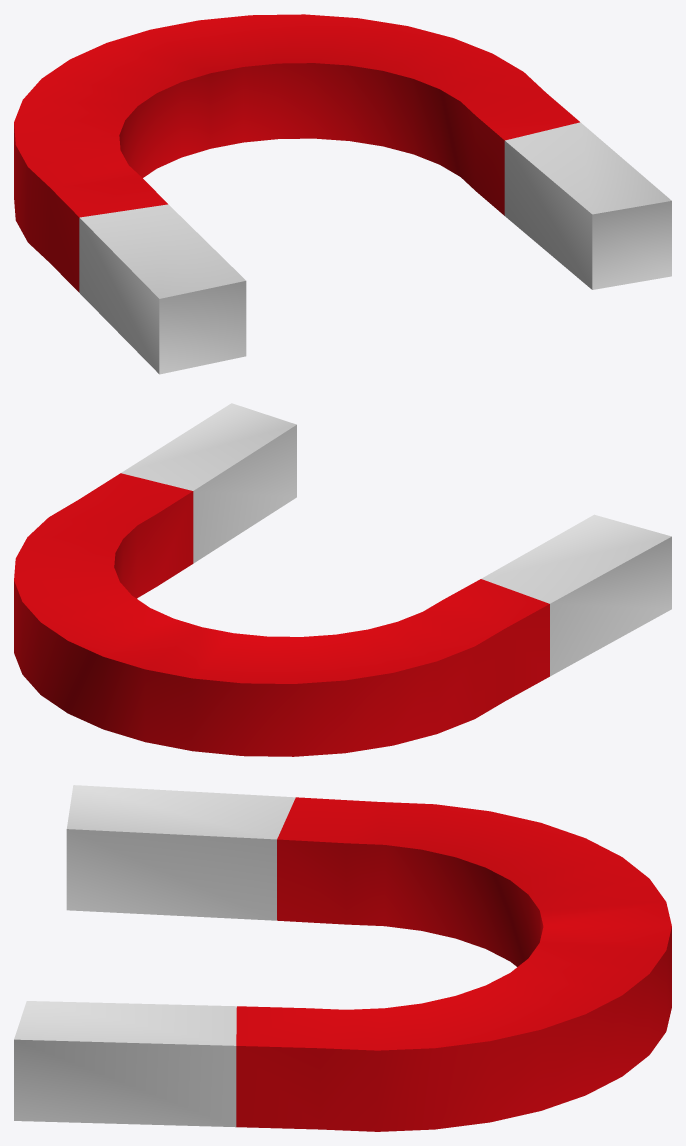
The model's file is JamesClerkMagnet.fbx.
The picture shows the model from 3 angles, top to bottom: view 1: azimuth 30°, elevation 25°; view 2: azimuth 150°, elevation 25°; view 3: azimuth 270°, elevation 25°; orthographic projection. The views are drawn at different scales.
Parts seen in each view (by area): view 1: Magnet.001; view 2: Magnet.001; view 3: Magnet.001.
Boxes of the visible parts, x1,y1,x2,y2 form: Magnet.001: [14, 14, 671, 374]; Magnet.001: [14, 403, 671, 756]; Magnet.001: [14, 785, 671, 1131].
Bounding box in the file's own units: 247 × 35.28 × 259.
